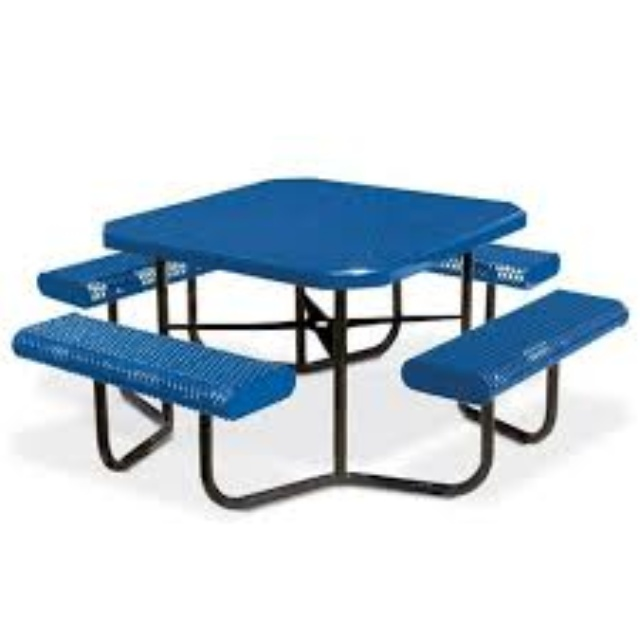obstacle: (14, 171, 631, 512)
